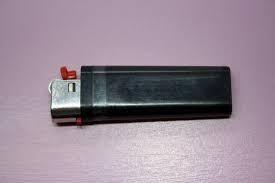lighter: (49, 65, 233, 118)
